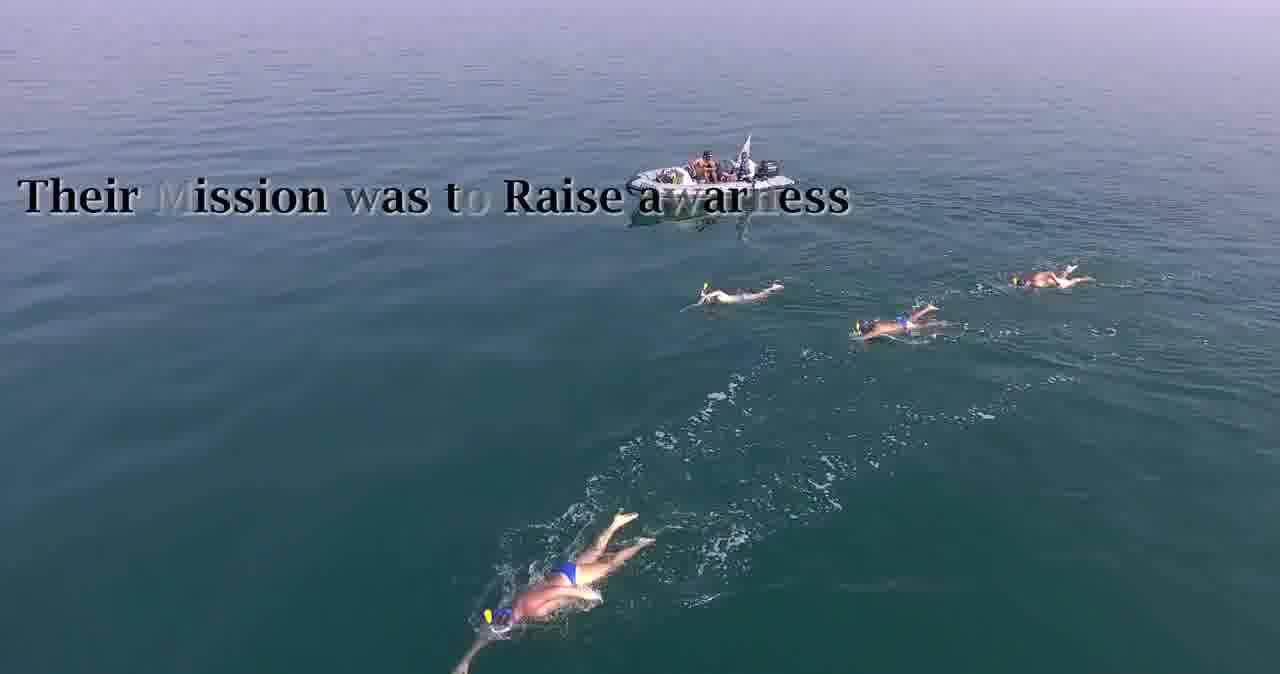human: (434, 506, 656, 674), (847, 300, 942, 344), (683, 278, 784, 314), (1014, 258, 1101, 294)
